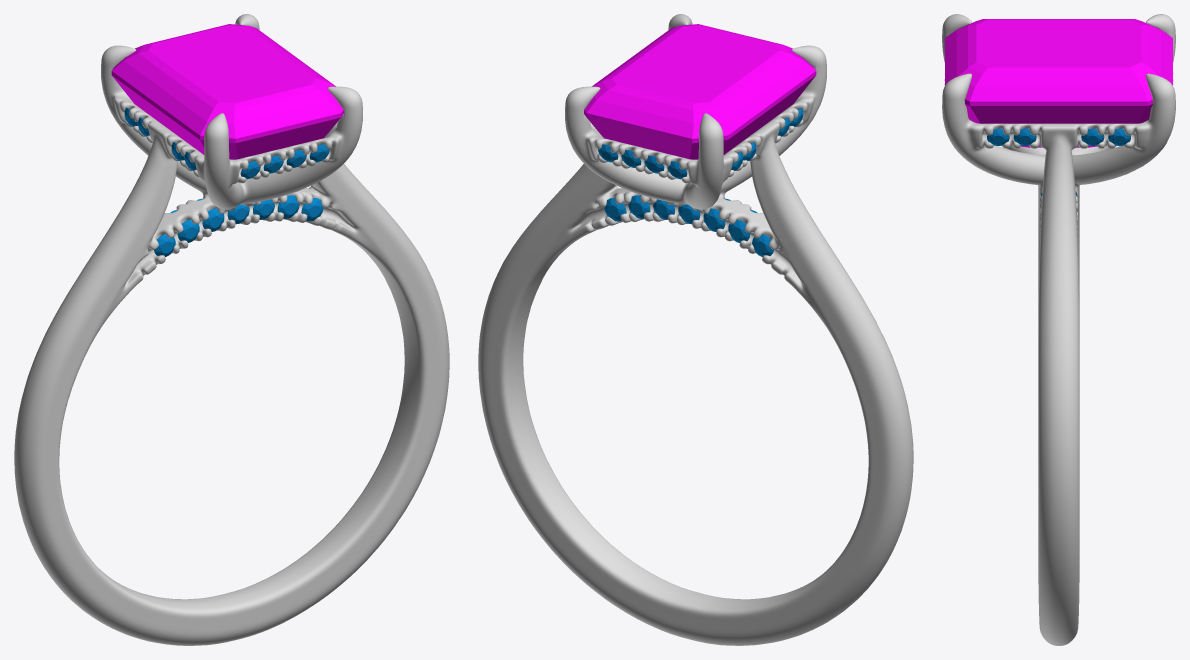
File: BE1D9140_EM_200ct_RENDER.glb
The picture shows the model from 3 angles, left to right: view 1: azimuth 30°, elevation 25°; view 2: azimuth 150°, elevation 25°; view 3: azimuth 270°, elevation 25°; orthographic projection.
Parts seen in each view (by area): view 1: Metal 01, CS_Diamond_Emerald; view 2: Metal 01, CS_Diamond_Emerald; view 3: Metal 01, CS_Diamond_Emerald.
Part boxes in pixels (x1,y1,x2,y2): Metal 01: [14, 14, 449, 645]; CS_Diamond_Emerald: [111, 24, 343, 159]; Metal 01: [478, 14, 913, 645]; CS_Diamond_Emerald: [584, 24, 816, 159]; Metal 01: [942, 14, 1175, 645]; CS_Diamond_Emerald: [945, 19, 1172, 147].
Size of the model in its own units: 19.73 by 25.24 by 9.22.
